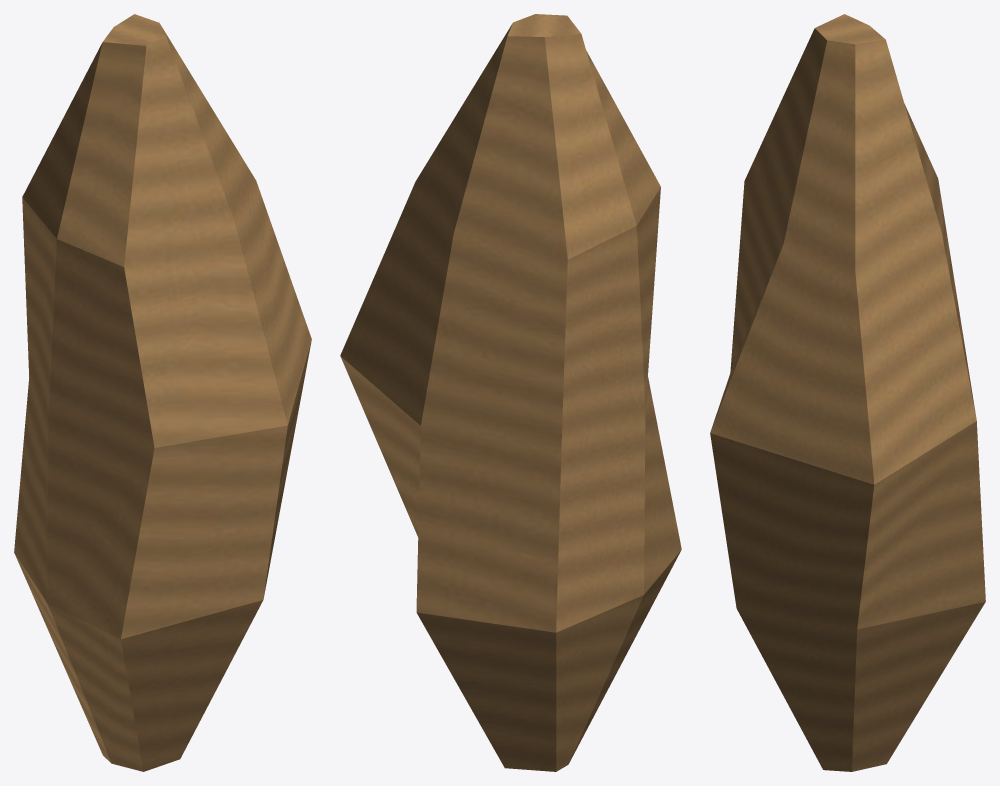
The model's file is chip3.glb.
The picture shows the model from 3 angles, left to right: view 1: azimuth 30°, elevation 25°; view 2: azimuth 150°, elevation 25°; view 3: azimuth 270°, elevation 25°; orthographic projection.
Visible parts, largest first — view 1: chip_4; view 2: chip_4; view 3: chip_4.
Boxes of the visible parts, x1,y1,x2,y2 form: chip_4: (14, 14, 311, 771); chip_4: (340, 14, 681, 771); chip_4: (710, 14, 985, 771).
Size of the model in its own units: 0.00375 by 0.00918 by 0.00317.
1 material, 1 textured.
